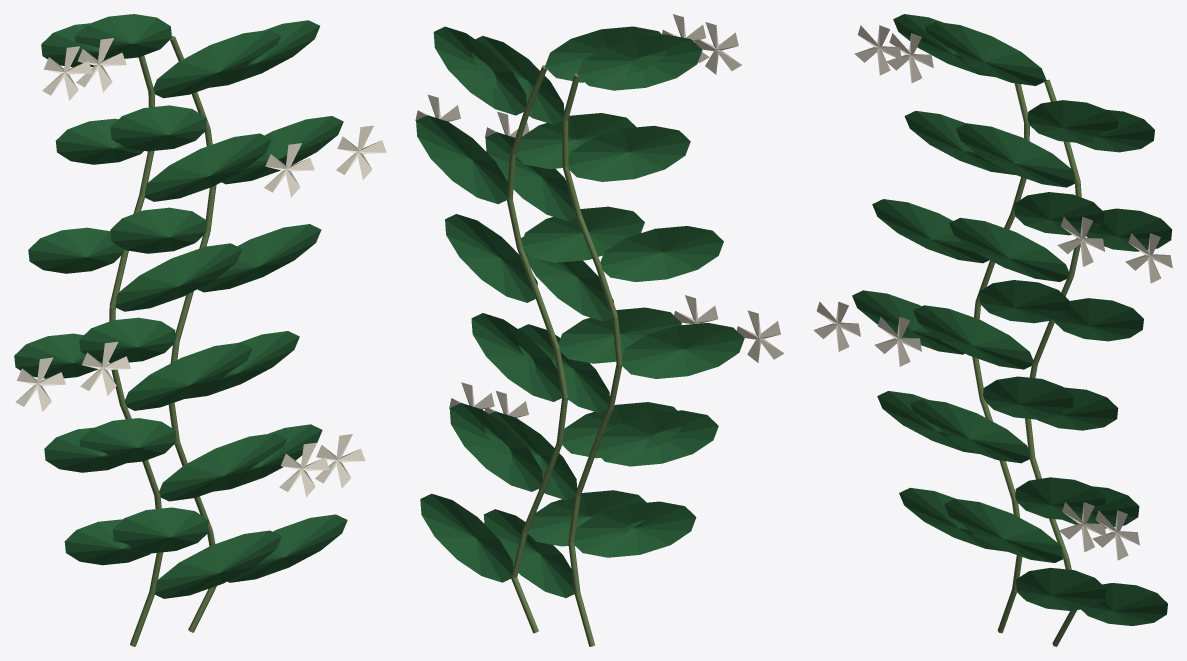
The model's file is trachelospermum-jasminoides.glb.
3 renders of one model, left to right at view 1: azimuth 30°, elevation 25°; view 2: azimuth 150°, elevation 25°; view 3: azimuth 330°, elevation 25°, orthographic. The views are drawn at different scales.
Parts seen in each view (by area): view 1: Climber species leaves, Species flowers / bracts, Climber species stems; view 2: Climber species leaves, Climber species stems, Species flowers / bracts; view 3: Climber species leaves, Species flowers / bracts, Climber species stems.
Part boxes in pixels (bbox=[...]): Climber species leaves: bbox=[14, 14, 347, 598]; Species flowers / bracts: bbox=[15, 38, 386, 496]; Climber species stems: bbox=[109, 36, 216, 646]; Climber species leaves: bbox=[416, 26, 744, 597]; Climber species stems: bbox=[506, 65, 622, 646]; Species flowers / bracts: bbox=[415, 14, 784, 417]; Climber species leaves: bbox=[852, 14, 1172, 625]; Species flowers / bracts: bbox=[813, 25, 1172, 560]; Climber species stems: bbox=[972, 79, 1081, 646].
Size of the model in its own units: 0.5191 by 0.8494 by 0.1158.
